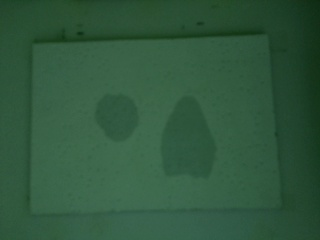Water_detected: (170, 107, 215, 167), (98, 100, 138, 140)
